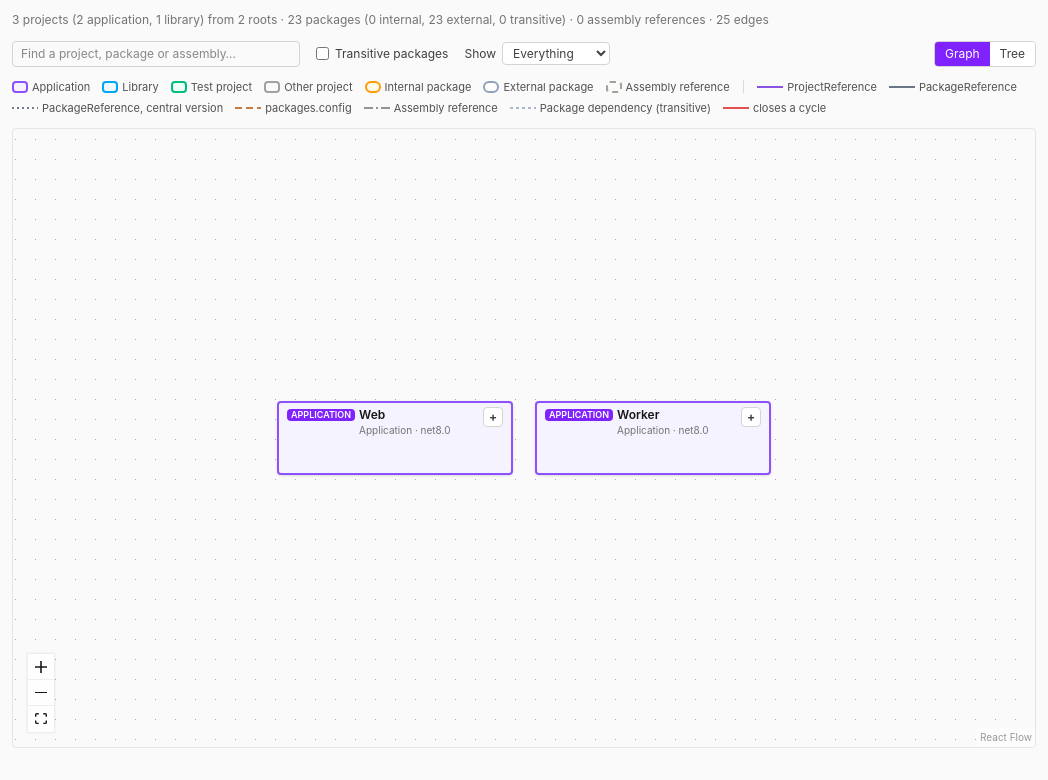
Structure, as a graph › "+N more" shows the rest
Click the button named "Expand Web".
click(493, 417)  # box left=483, top=407, right=503, bottom=427
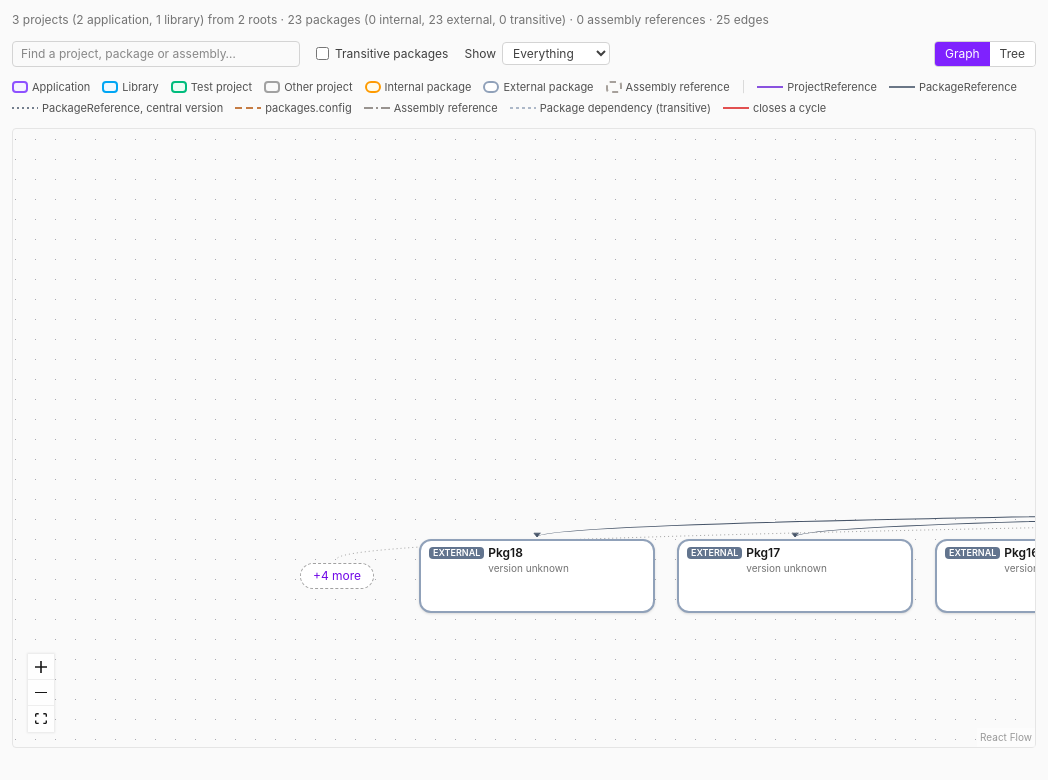
Click the button "+4 more".
click(337, 576)  # box left=300, top=563, right=374, bottom=589
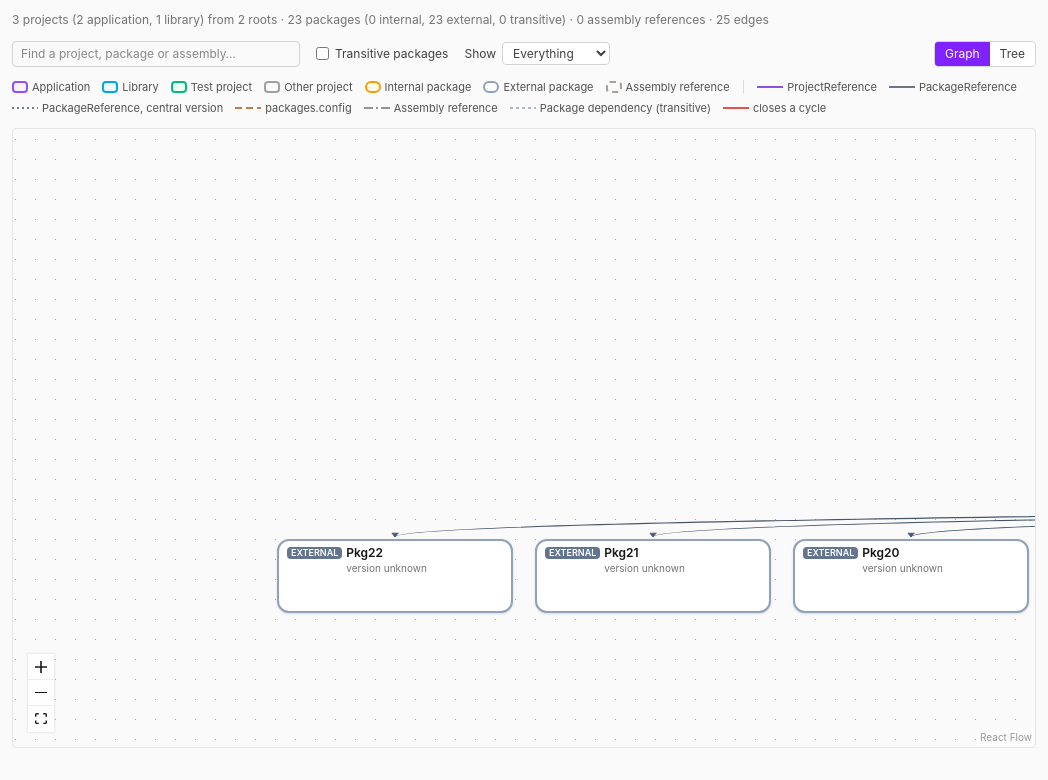
Expected: the element with test id "graph-node-package:Pkg22" is shown, left=277, top=539, right=513, bottom=613
Expected: the button "more" is gone
